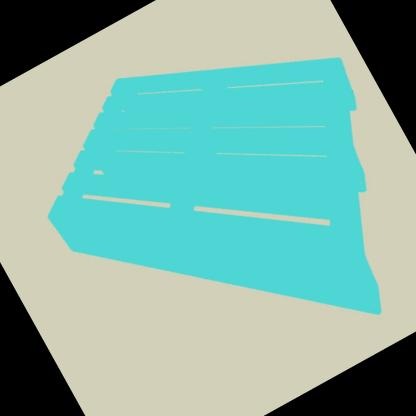BoxFace: (43, 53, 387, 322)
